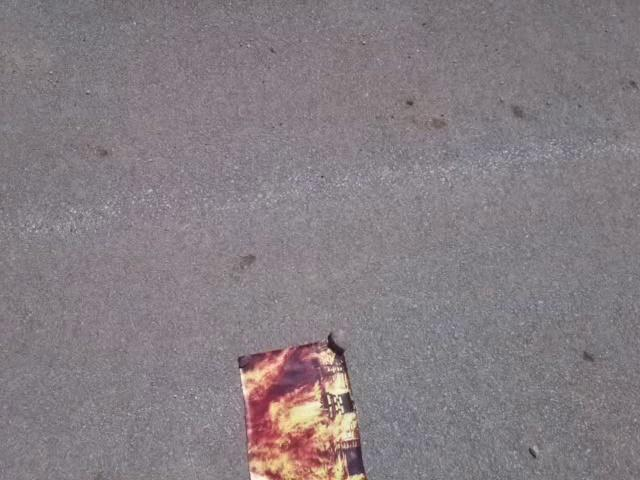fire-poster: (235, 331, 370, 479)
